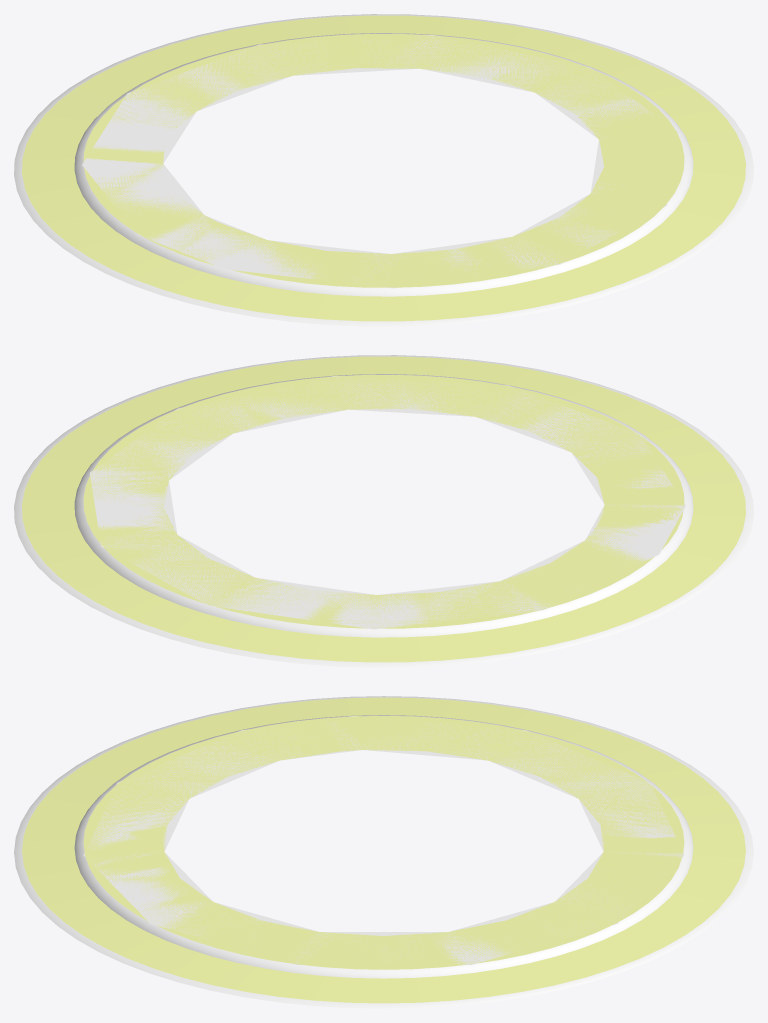
File: italy_road_roundabout_town_1.dae
3 renders of one model, top to bottom at view 1: azimuth 30°, elevation 25°; view 2: azimuth 150°, elevation 25°; view 3: azimuth 270°, elevation 25°, orthographic.
Parts seen in each view (by area): view 1: italy_road_roundabout_town_1_a1000, italy_road_roundabout_town_1_a20, italy_road_roundabout_town_1_a200; view 2: italy_road_roundabout_town_1_a1000, italy_road_roundabout_town_1_a20, italy_road_roundabout_town_1_a200; view 3: italy_road_roundabout_town_1_a1000, italy_road_roundabout_town_1_a200, italy_road_roundabout_town_1_a20.
Part boxes in pixels (x1,y1,x2,y2): italy_road_roundabout_town_1_a1000: (14, 14, 753, 326); italy_road_roundabout_town_1_a20: (82, 35, 677, 288); italy_road_roundabout_town_1_a200: (85, 35, 681, 287); italy_road_roundabout_town_1_a1000: (14, 355, 753, 667); italy_road_roundabout_town_1_a20: (90, 376, 685, 629); italy_road_roundabout_town_1_a200: (84, 376, 683, 627); italy_road_roundabout_town_1_a1000: (14, 696, 753, 1008); italy_road_roundabout_town_1_a200: (85, 716, 682, 969); italy_road_roundabout_town_1_a20: (83, 716, 684, 964).
Bounding box in the file's own units: 20.62 × 20.62 × 0.2976.
